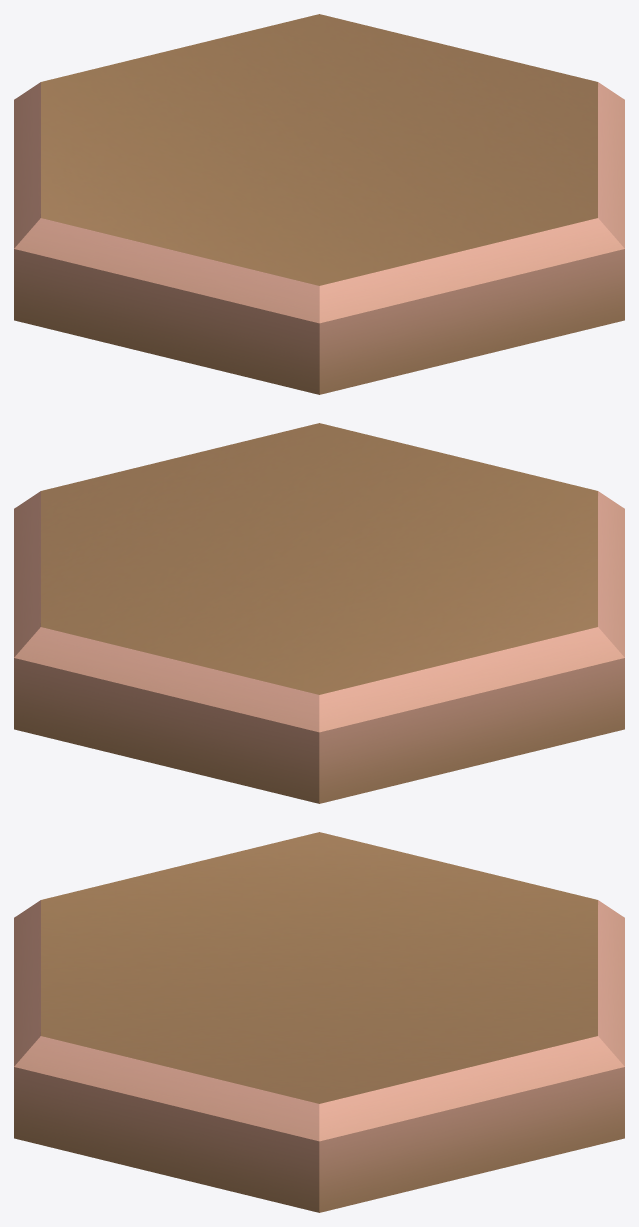
Rendered from hex.fbx.
The picture shows the model from 3 angles, top to bottom: view 1: azimuth 30°, elevation 25°; view 2: azimuth 150°, elevation 25°; view 3: azimuth 270°, elevation 25°; orthographic projection.
Visible parts, largest first — view 1: Hex; view 2: Hex; view 3: Hex.
Boxes of the visible parts, <box> form: Hex: <box>14,14,624,394</box>; Hex: <box>14,423,624,803</box>; Hex: <box>14,832,624,1212</box>.
Size of the model in its own units: 2 by 0.3 by 1.73.
